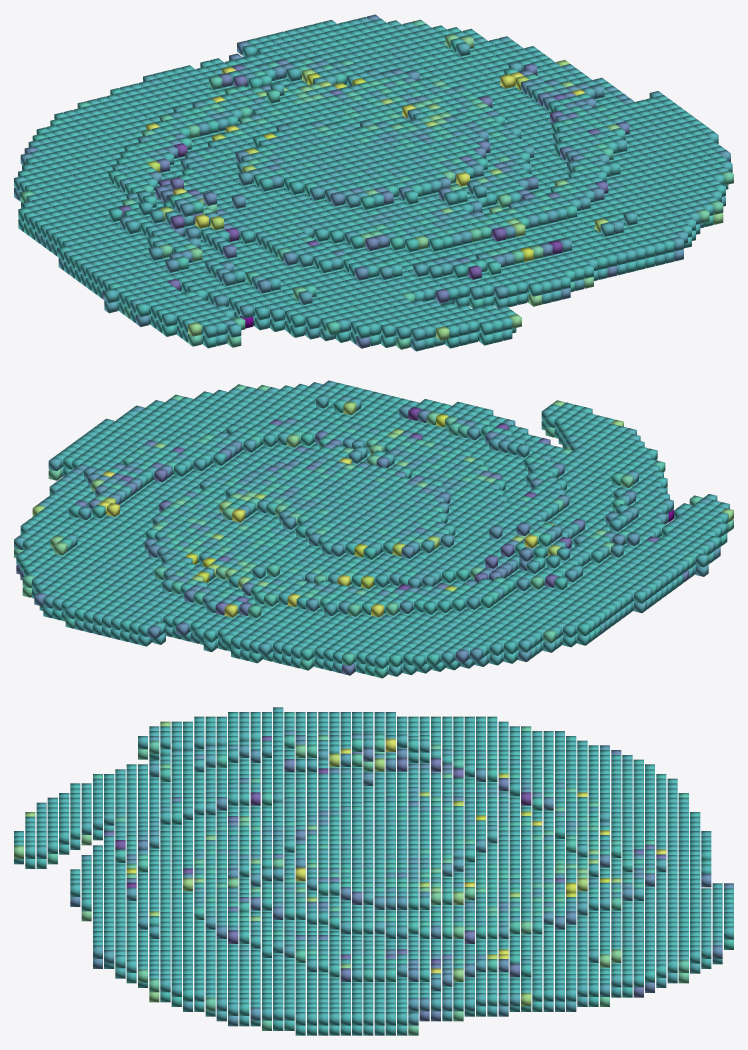
Rendered from system_mass_C.gltf.
3 renders of one model, top to bottom at view 1: azimuth 30°, elevation 25°; view 2: azimuth 150°, elevation 25°; view 3: azimuth 270°, elevation 25°, orthographic. The views are drawn at different scales.
Visible parts, largest first — view 1: Renderer Node; view 2: Renderer Node; view 3: Renderer Node.
Part boxes in pixels (x1,y1,x2,y2): Renderer Node: (14,14,733,351); Renderer Node: (14,380,733,678); Renderer Node: (14,707,733,1035).
Bounding box in the file's own units: 83072 × 10112 × 81792.
